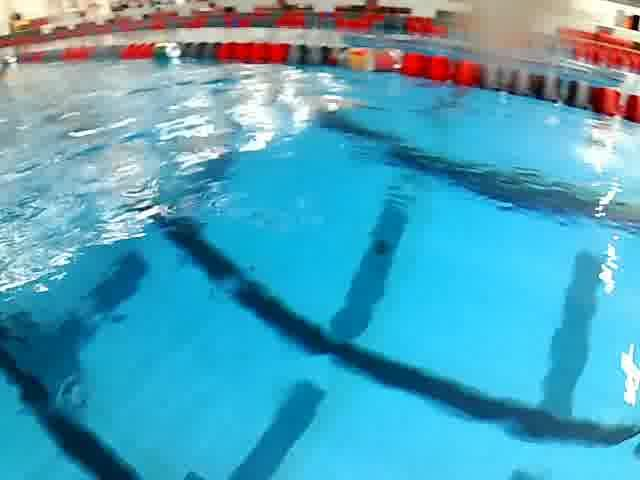Bottle: (324, 44, 406, 76)
Can: (146, 42, 188, 62)
